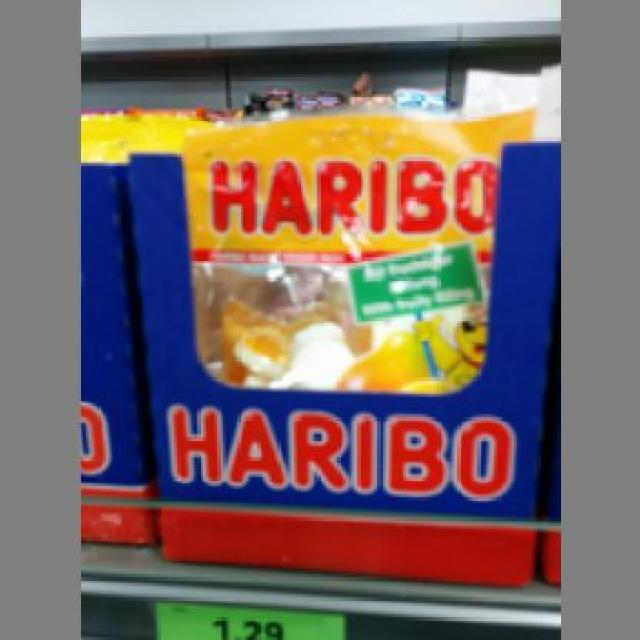Candy: (145, 108, 538, 394)
